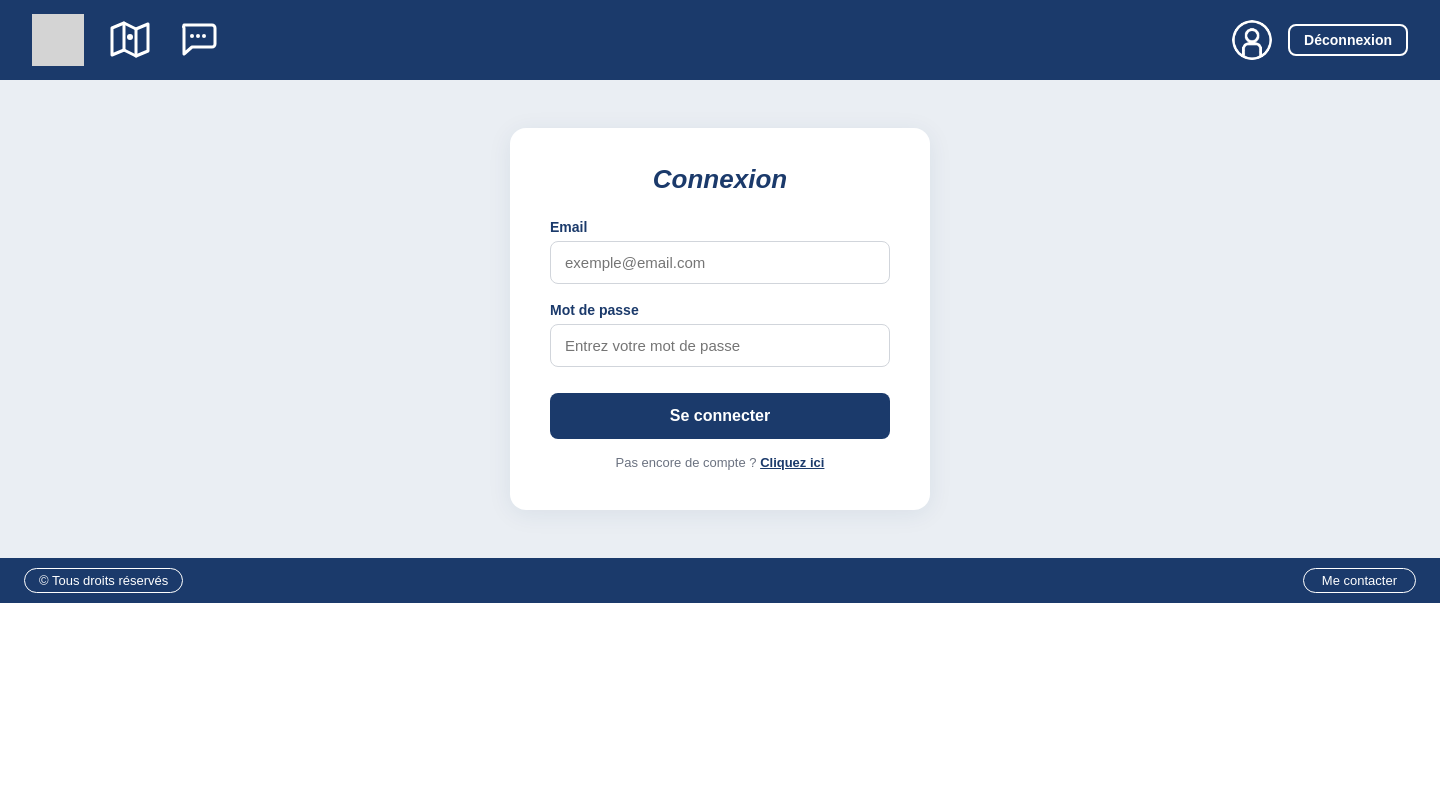
Test: LoginPage › affiche une erreur si les champs sont vides
Click the button "Se connecter" at (720, 416), box [550, 393, 890, 439]
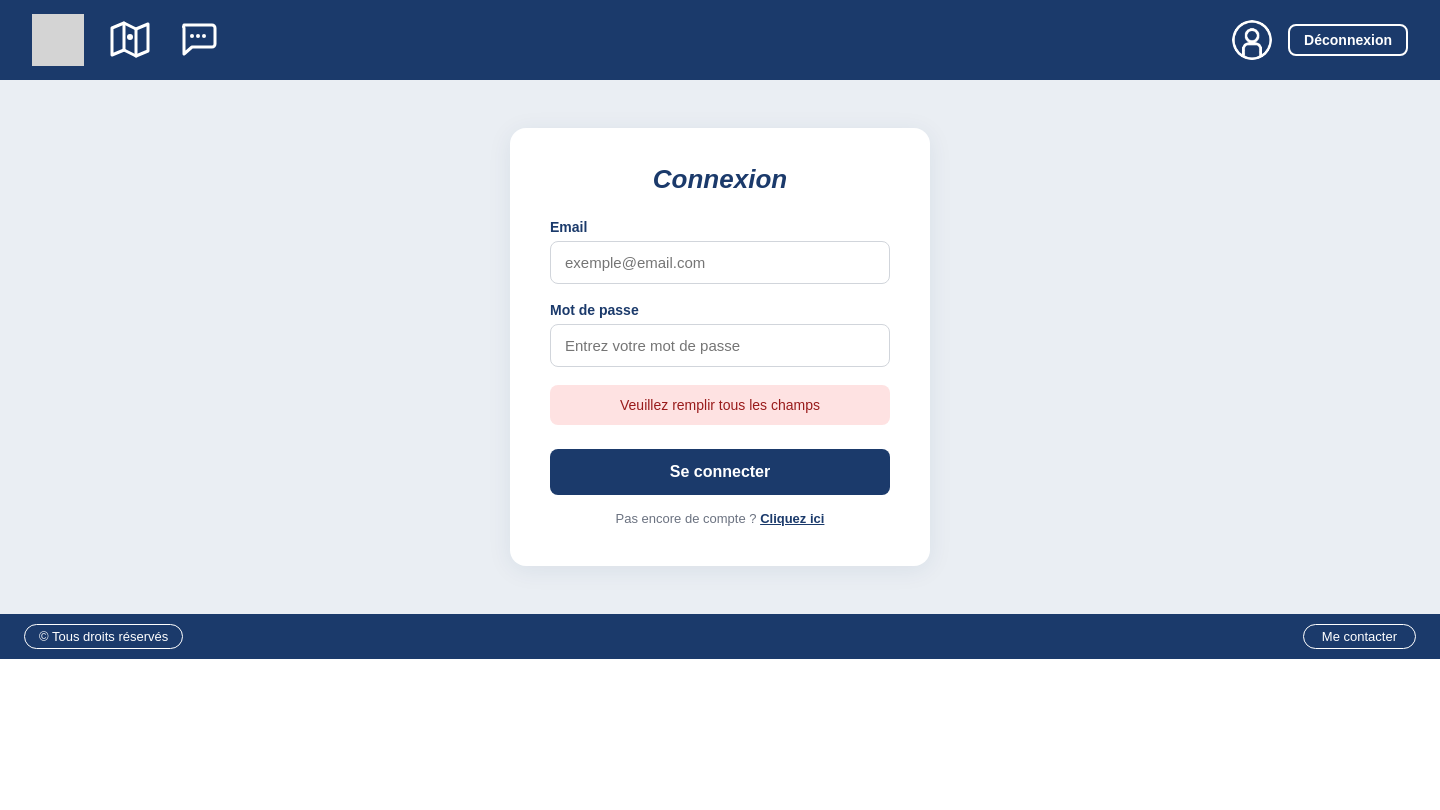
Expected: the text "Veuillez remplir tous les champs" is shown, [550, 385, 890, 425]
